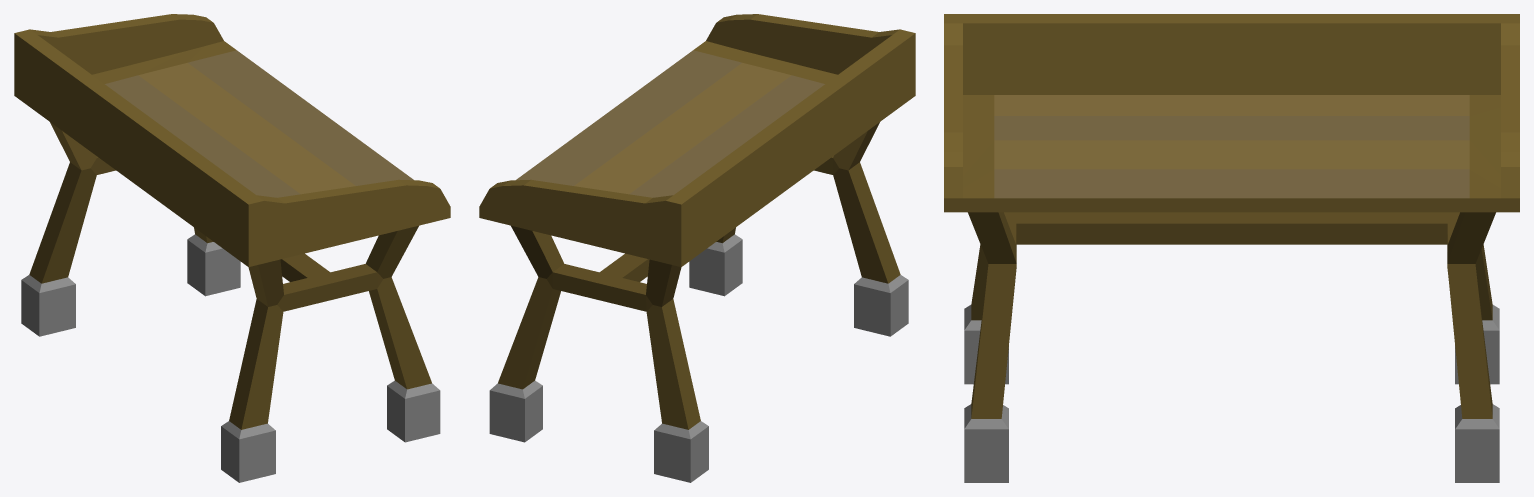
Rendered from Tablle.fbx.
3 renders of one model, left to right at view 1: azimuth 30°, elevation 25°; view 2: azimuth 150°, elevation 25°; view 3: azimuth 270°, elevation 25°, orthographic. The views are drawn at different scales.
Parts seen in each view (by area): view 1: pCube1; view 2: pCube1; view 3: pCube1.
Part boxes in pixels (x1,y1,x2,y2): pCube1: (14, 14, 450, 482); pCube1: (479, 14, 915, 482); pCube1: (944, 14, 1519, 482).
Size of the model in its own units: 6.08 by 8.12 by 12.13.
